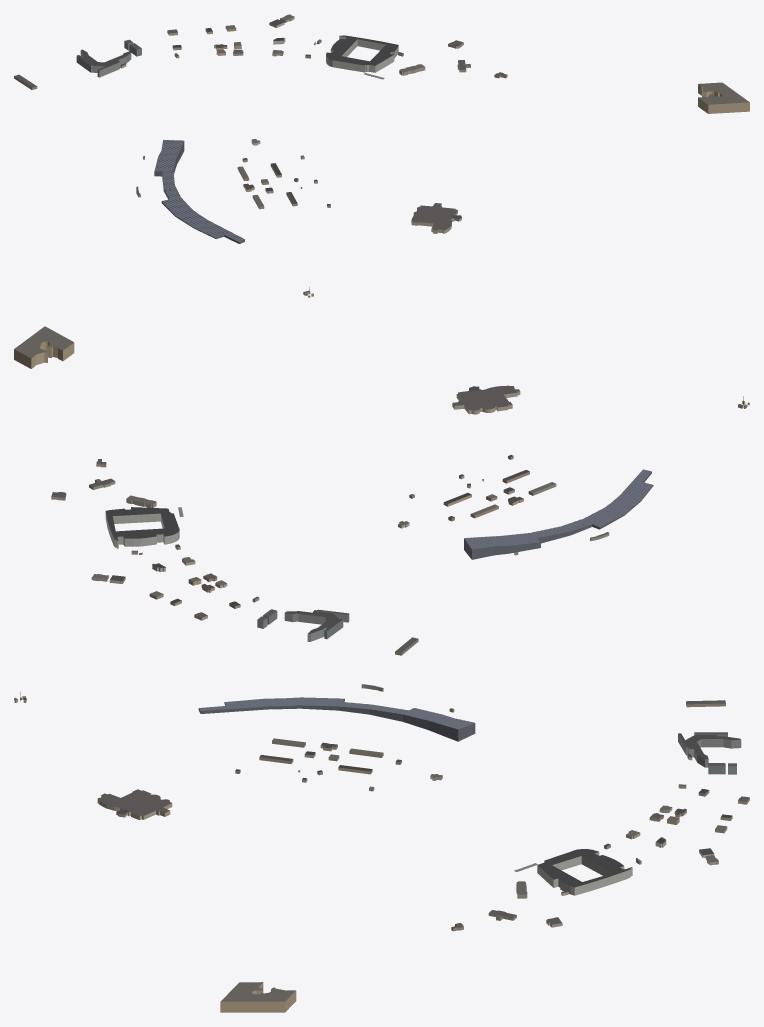
The model's file is scenery.glb.
3 renders of one model, top to bottom at view 1: azimuth 30°, elevation 25°; view 2: azimuth 150°, elevation 25°; view 3: azimuth 270°, elevation 25°, orthographic. The views are drawn at different scales.
Parts seen in each view (by area): view 1: chunk_14_14, chunk_16_13, chunk_18_15, chunk_15_16, chunk_14_12, chunk_15_12; view 2: chunk_14_14, chunk_16_13, chunk_18_15, chunk_14_12, chunk_15_16, chunk_15_12; view 3: chunk_14_14, chunk_16_13, chunk_18_15, chunk_15_16, chunk_14_12, chunk_15_12, chunk_14_15.
Part boxes in pixels (x1=…): chunk_14_14: x1=143, y1=139, x2=298, y2=243; chunk_16_13: x1=314, y1=35, x2=470, y2=79; chunk_18_15: x1=698, y1=82, x2=749, y2=113; chunk_15_16: x1=411, y1=203, x2=461, y2=233; chunk_14_12: x1=76, y1=39, x2=141, y2=77; chunk_15_12: x1=167, y1=25, x2=285, y2=58; chunk_14_14: x1=398, y1=469, x2=653, y2=559; chunk_16_13: x1=51, y1=478, x2=183, y2=554; chunk_18_15: x1=14, y1=326, x2=74, y2=368; chunk_14_12: x1=257, y1=609, x2=349, y2=641; chunk_15_16: x1=452, y1=385, x2=520, y2=414; chunk_15_12: x1=149, y1=563, x2=259, y2=620; chunk_14_14: x1=198, y1=697, x2=475, y2=780; chunk_16_13: x1=488, y1=849, x2=641, y2=927; chunk_18_15: x1=220, y1=982, x2=296, y2=1012; chunk_15_16: x1=97, y1=789, x2=172, y2=820; chunk_14_12: x1=678, y1=732, x2=741, y2=774; chunk_15_12: x1=655, y1=784, x2=749, y2=847; chunk_14_15: x1=235, y1=738, x2=315, y2=782.
Size of the model in its own units: 1778 by 51.46 by 1730.
